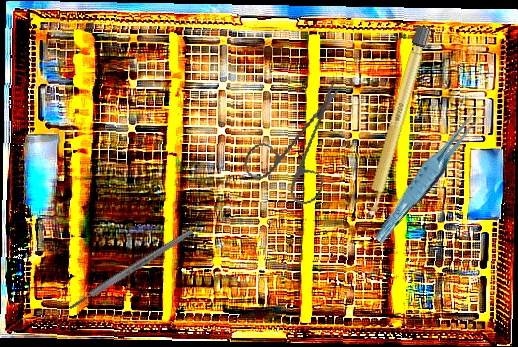Iris Scissors: (229, 80, 368, 217)
Scalpel Handle: (361, 24, 432, 221), (67, 227, 195, 312)
Tissue Forceps: (364, 107, 493, 246)
